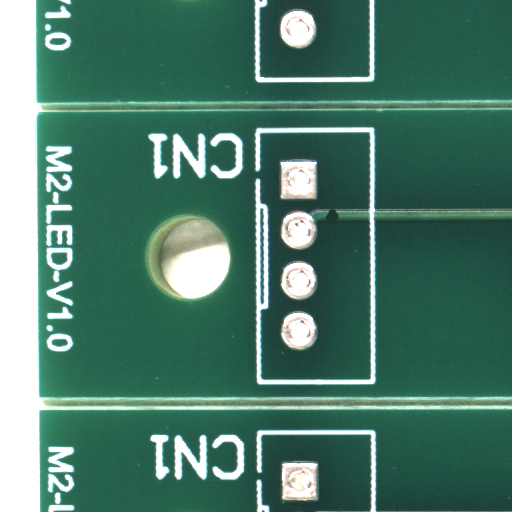Mouse_bite: (331, 215, 343, 227)
